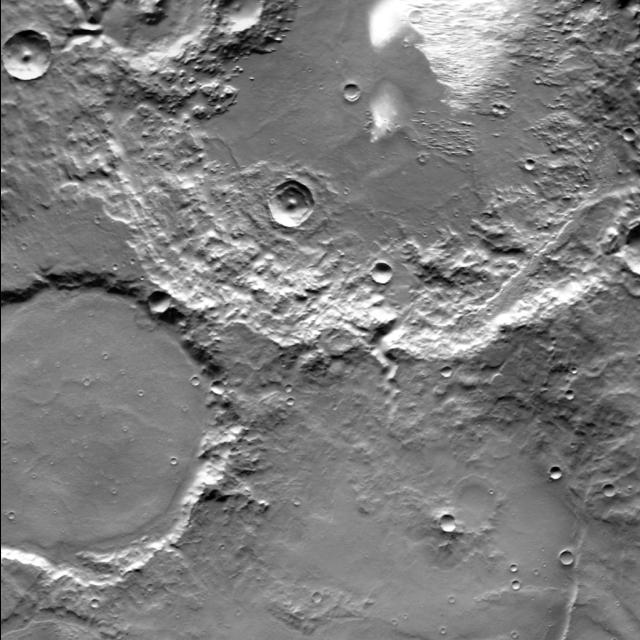crater: (97, 0, 640, 374), (1, 279, 230, 585), (85, 0, 207, 69), (2, 35, 51, 85), (270, 186, 314, 232), (216, 0, 262, 36), (149, 296, 171, 318), (372, 269, 393, 290), (342, 90, 360, 108), (440, 522, 456, 538), (558, 558, 572, 572), (212, 387, 226, 401), (548, 472, 561, 486), (408, 16, 422, 29), (623, 134, 635, 146), (442, 372, 454, 384), (603, 492, 614, 502), (525, 166, 535, 176), (312, 598, 322, 608), (565, 396, 575, 406), (92, 607, 101, 616), (194, 385, 202, 394), (512, 587, 520, 596), (7, 518, 15, 526), (278, 384, 286, 392), (490, 104, 498, 112), (502, 564, 510, 570), (286, 498, 293, 504), (280, 397, 286, 404), (485, 105, 491, 112), (564, 368, 570, 373)
